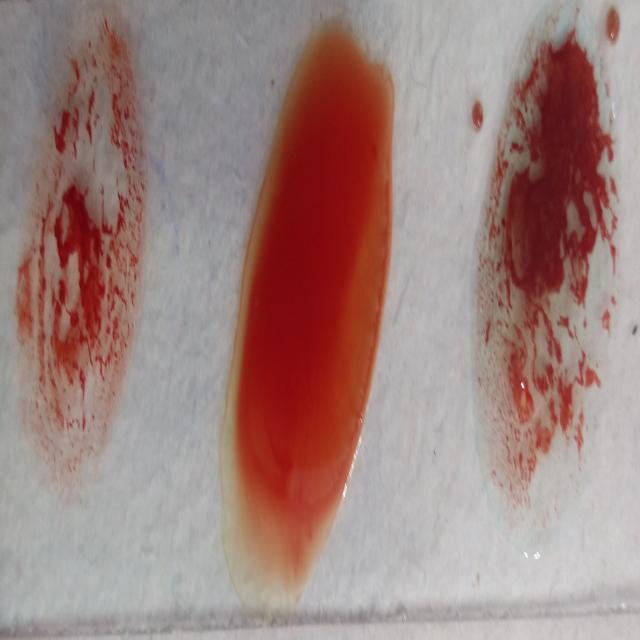A: (476, 35, 611, 515)
D: (29, 41, 149, 467)
